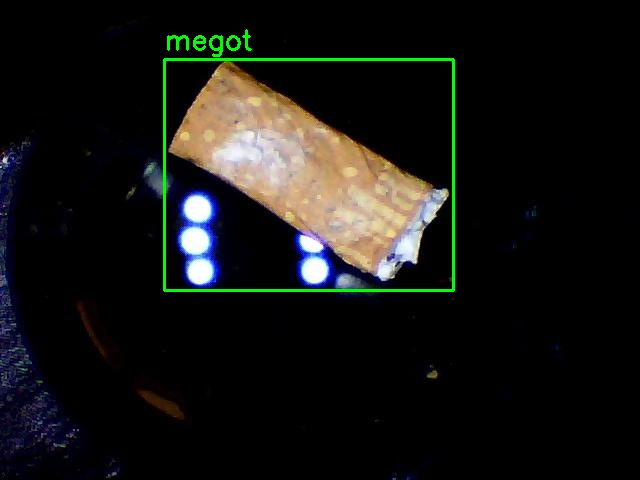megot: (164, 59, 453, 290)
